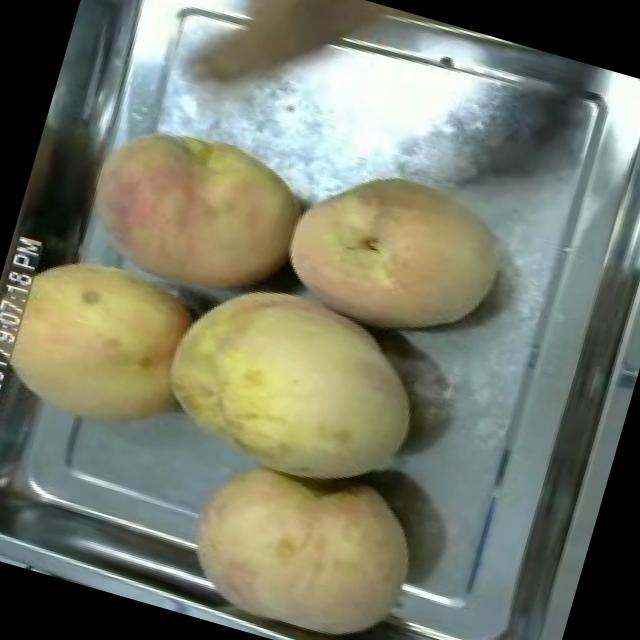Fruit: (134, 253, 445, 519), (156, 425, 444, 640), (260, 140, 524, 370), (65, 98, 325, 326), (0, 226, 217, 455)
